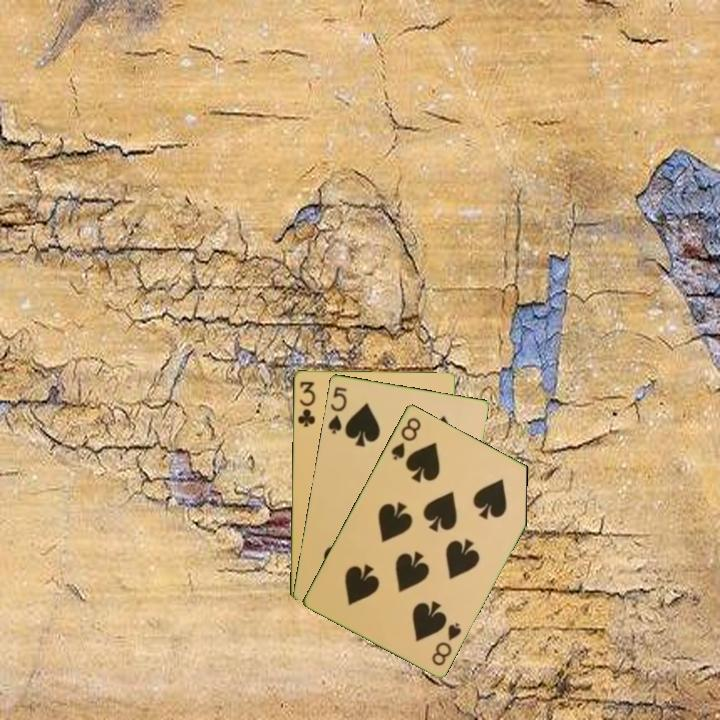3c: (294, 377, 318, 430)
5s: (324, 383, 350, 436)
8s: (387, 413, 424, 463), (428, 618, 464, 668)
